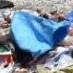garbage: (1, 1, 72, 72)
